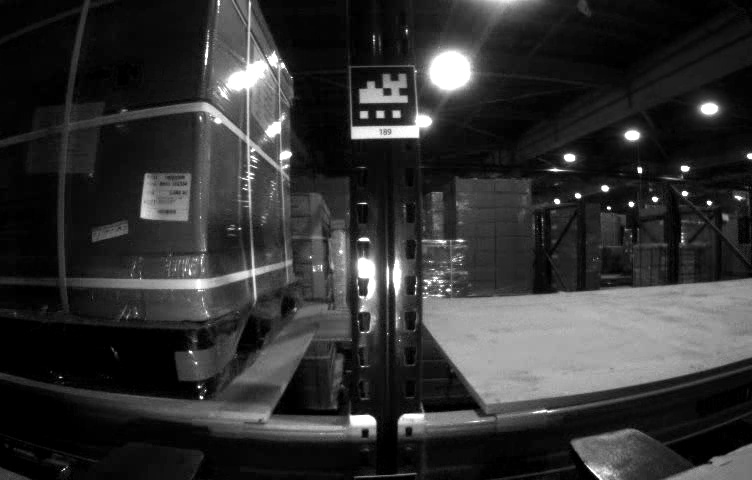True Barcode: (141, 171, 192, 222)
